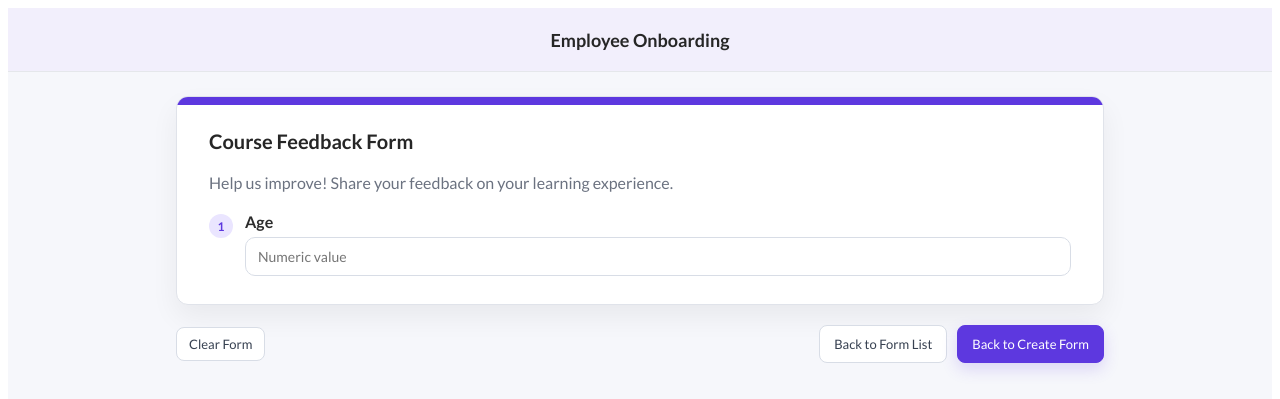
Test: renders and interacts with number fields
The image size is (1280, 399).
Type "abc25def" into the field named "age" at (658, 256), box [245, 237, 1071, 276]
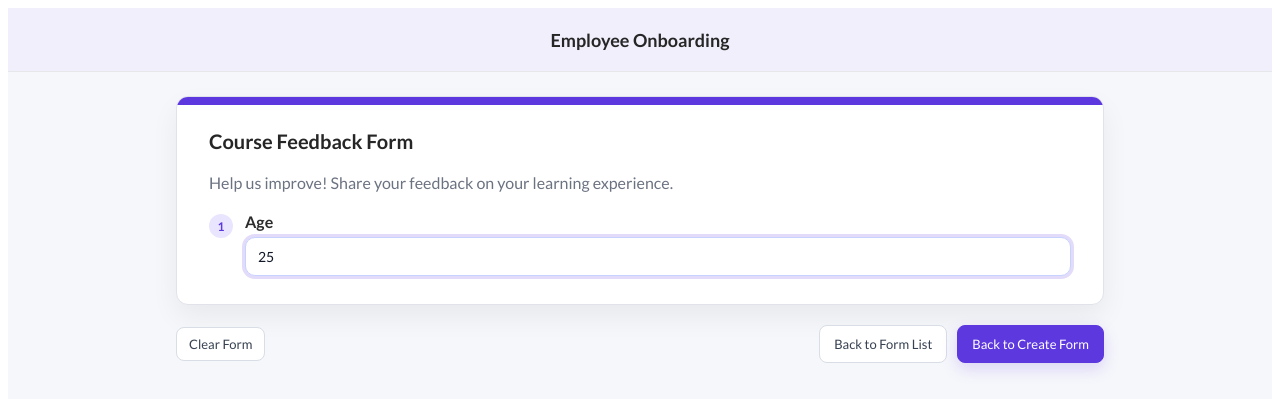
Now the field named "age" holds "25", box [245, 237, 1071, 276]
